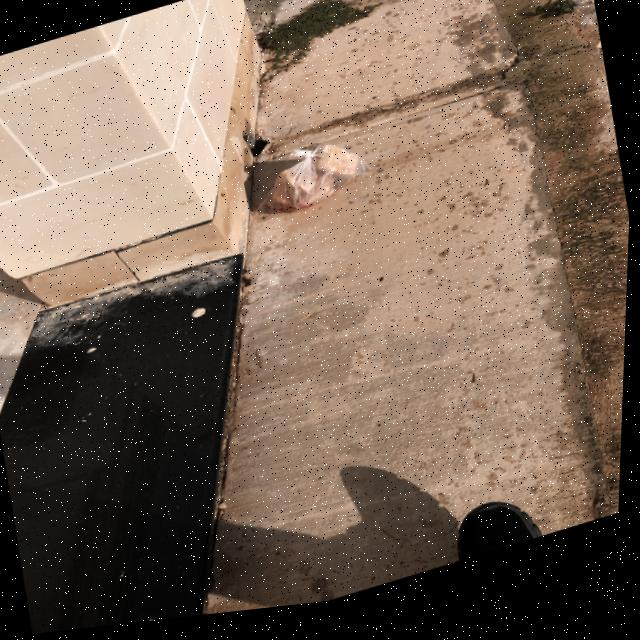Organic Waste -White Bag-: (239, 125, 385, 238)
